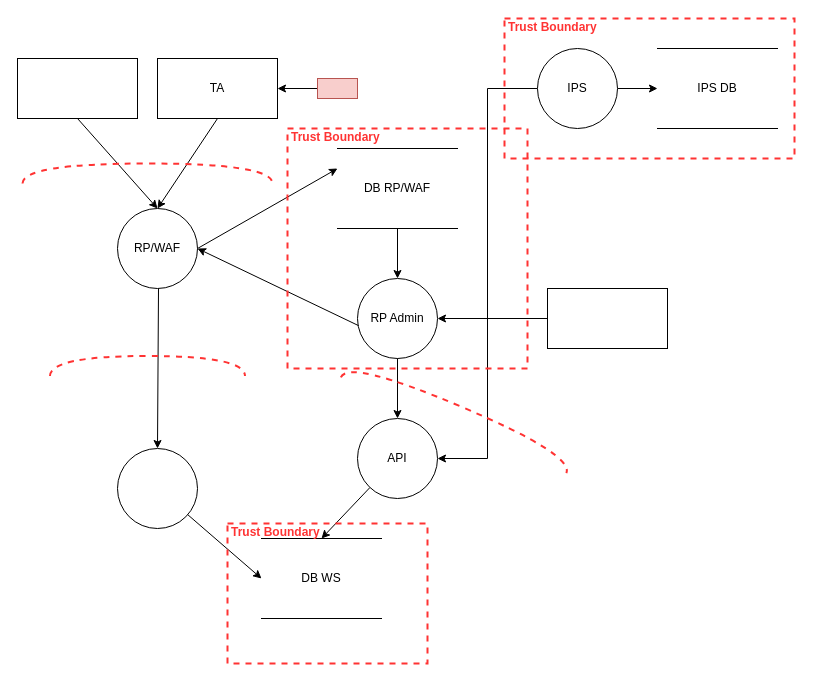
The diagram is 813 pixels wide and 681 high, and some of its shapes have lost their labels. Here are the shapes that lost their labels. From the top down, the centre of each, then its label:
At [77,88]: "User".
At [337,88]: "TA01".
At [607,318]: "Admin".
At [157,488]: "Website".
